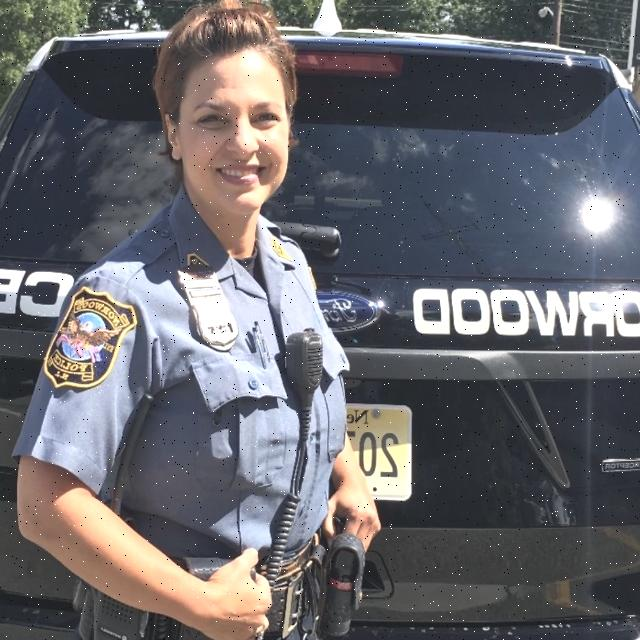police: (2, 0, 416, 640)
